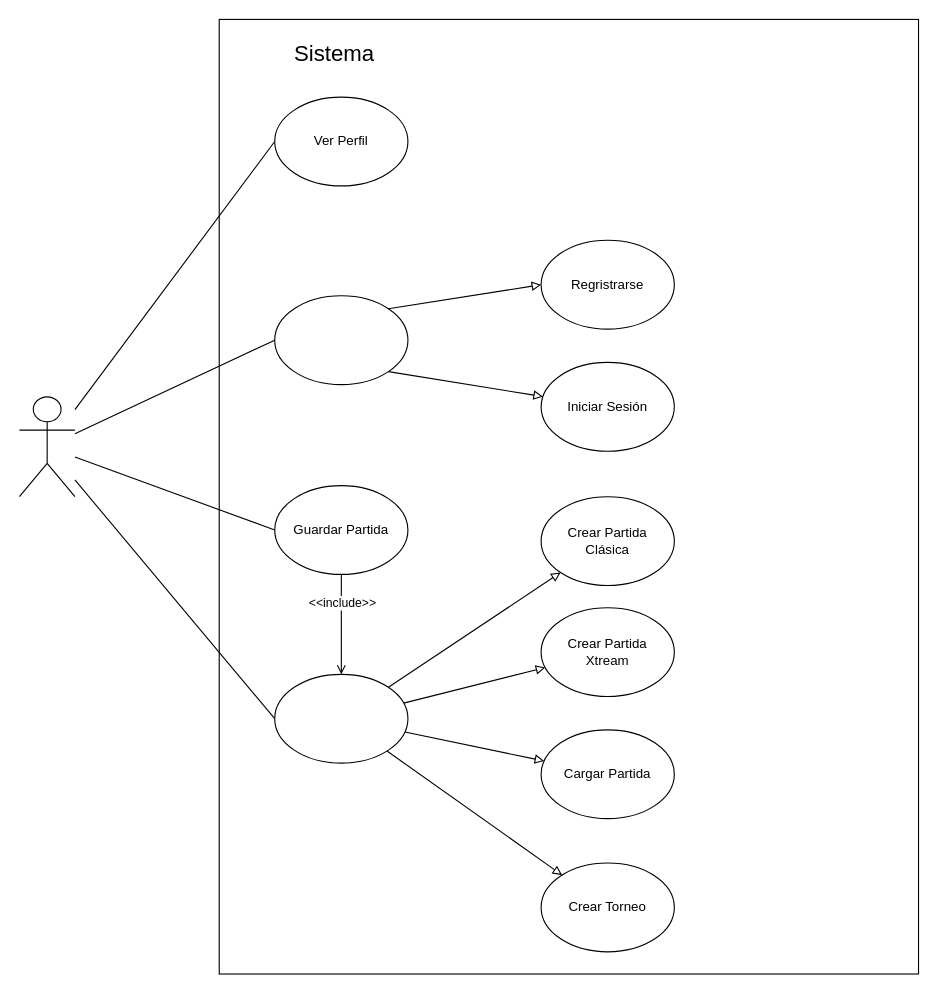
This 938x993 diagram has some shape labels left out. The shapes that lost their labels are listed below. From the top down, each one's box as (x1, y1, x2, y2) in pixels, then its label:
(274, 295, 408, 385): Ingresar
(18, 396, 75, 497): Usuario
(274, 673, 408, 763): Jugar
